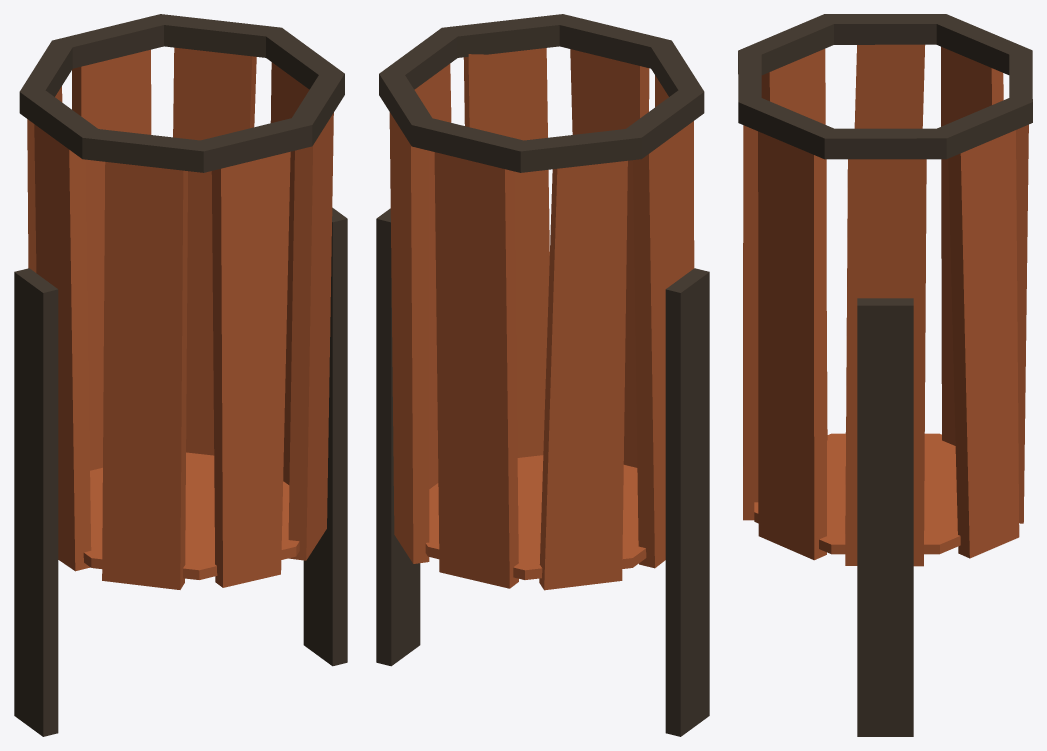
The model's file is ChumBucket.fbx.
3 views of the same model, side by side, from view 1: azimuth 30°, elevation 25°; view 2: azimuth 150°, elevation 25°; view 3: azimuth 270°, elevation 25° (orthographic). The views are drawn at different scales.
Parts seen in each view (by area): view 1: Окружность.003; view 2: Окружность.003; view 3: Окружность.003.
Boxes of the visible parts, left/top/right/bottom form: Окружность.003: left=14, top=14, right=347, bottom=736; Окружность.003: left=376, top=14, right=709, bottom=736; Окружность.003: left=738, top=14, right=1032, bottom=736.
Bounding box in the file's own units: 195 × 371 × 168.
